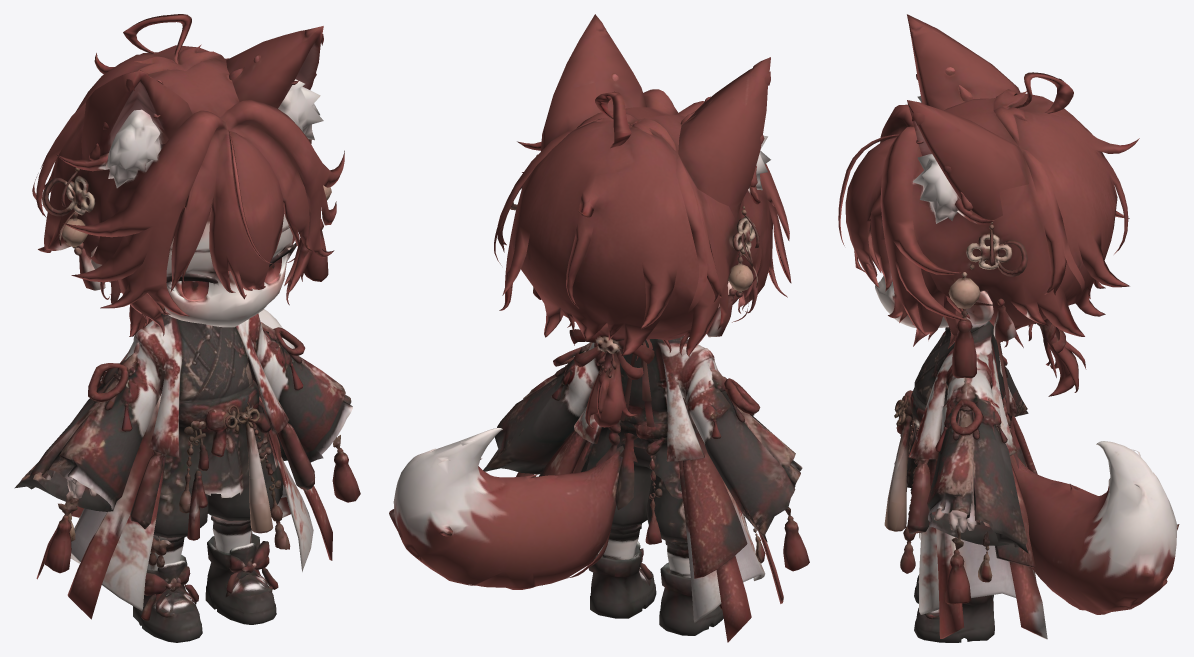
The model's file is source.glb.
3 renders of one model, left to right at view 1: azimuth 30°, elevation 25°; view 2: azimuth 150°, elevation 25°; view 3: azimuth 270°, elevation 25°, orthographic. The views are drawn at different scales.
Visible parts, largest first — view 1: tripo_part_2, tripo_part_1, tripo_part_15, tripo_part_9, tripo_part_34, tripo_part_10, tripo_part_71, tripo_part_7, tripo_part_4, tripo_part_17, tripo_part_14, tripo_part_16 (+16 smaller); view 2: tripo_part_2, tripo_part_3, tripo_part_1, tripo_part_15, tripo_part_9, tripo_part_34, tripo_part_10, tripo_part_7, tripo_part_4, tripo_part_14, tripo_part_82, tripo_part_22 (+6 smaller); view 3: tripo_part_2, tripo_part_3, tripo_part_1, tripo_part_34, tripo_part_14, tripo_part_9, tripo_part_38, tripo_part_7, tripo_part_16, tripo_part_8, tripo_part_15, tripo_part_46 (+7 smaller).
Part boxes in pixels (x1=…): tripo_part_2: x1=32, y1=45, x2=344, y2=336; tripo_part_1: x1=14, y1=313, x2=352, y2=511; tripo_part_15: x1=36, y1=44, x2=225, y2=610; tripo_part_9: x1=81, y1=70, x2=192, y2=176; tripo_part_34: x1=92, y1=26, x2=323, y2=400; tripo_part_10: x1=147, y1=465, x2=283, y2=570; tripo_part_71: x1=67, y1=394, x2=161, y2=619; tripo_part_7: x1=205, y1=533, x2=276, y2=624; tripo_part_4: x1=133, y1=555, x2=202, y2=642; tripo_part_17: x1=105, y1=109, x2=160, y2=188; tripo_part_14: x1=258, y1=400, x2=313, y2=571; tripo_part_16: x1=245, y1=412, x2=273, y2=533; tripo_part_2: x1=494, y1=89, x2=791, y2=428; tripo_part_3: x1=389, y1=186, x2=652, y2=589; tripo_part_1: x1=483, y1=336, x2=802, y2=542; tripo_part_15: x1=576, y1=111, x2=765, y2=642; tripo_part_9: x1=678, y1=57, x2=770, y2=221; tripo_part_34: x1=542, y1=14, x2=744, y2=422; tripo_part_10: x1=581, y1=443, x2=690, y2=577; tripo_part_7: x1=588, y1=541, x2=656, y2=618; tripo_part_4: x1=659, y1=562, x2=723, y2=635; tripo_part_14: x1=539, y1=430, x2=593, y2=585; tripo_part_82: x1=615, y1=433, x2=637, y2=509; tripo_part_22: x1=595, y1=91, x2=632, y2=148; tripo_part_2: x1=845, y1=93, x2=1139, y2=396; tripo_part_3: x1=965, y1=240, x2=1179, y2=614; tripo_part_1: x1=906, y1=321, x2=1028, y2=553; tripo_part_34: x1=907, y1=100, x2=1028, y2=219; tripo_part_14: x1=918, y1=459, x2=1047, y2=639; tripo_part_9: x1=907, y1=14, x2=1020, y2=110; tripo_part_38: x1=838, y1=134, x2=980, y2=638; tripo_part_7: x1=914, y1=595, x2=994, y2=642; tripo_part_16: x1=884, y1=415, x2=911, y2=531; tripo_part_8: x1=913, y1=154, x2=958, y2=223; tripo_part_15: x1=919, y1=89, x2=1037, y2=540; tripo_part_46: x1=907, y1=459, x2=930, y2=533.
Size of the model in its own units: 0.6082 by 1 by 0.5535.
Materials: 1 (1 with a texture image).
